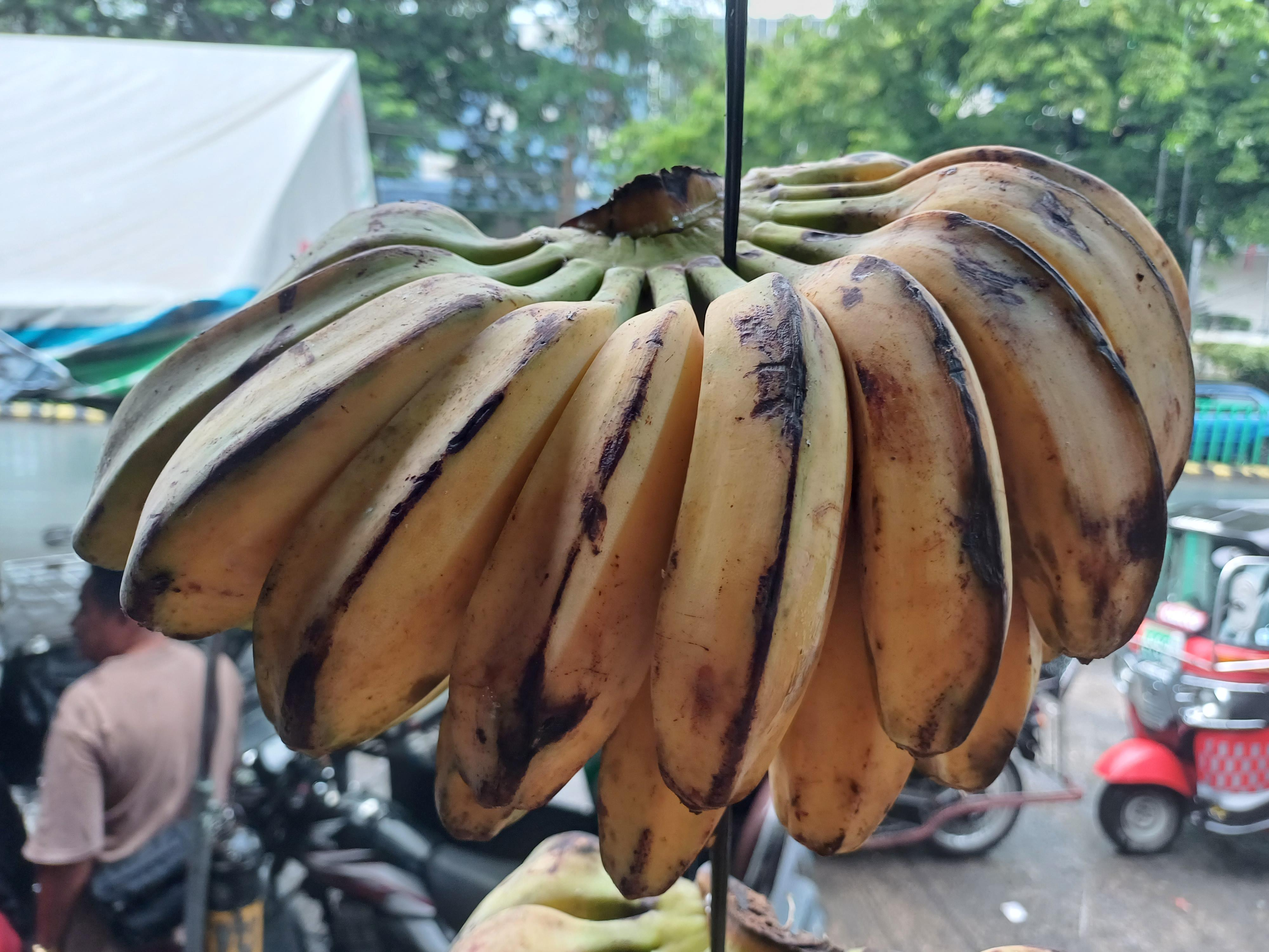ripe: (73, 143, 1194, 898)
